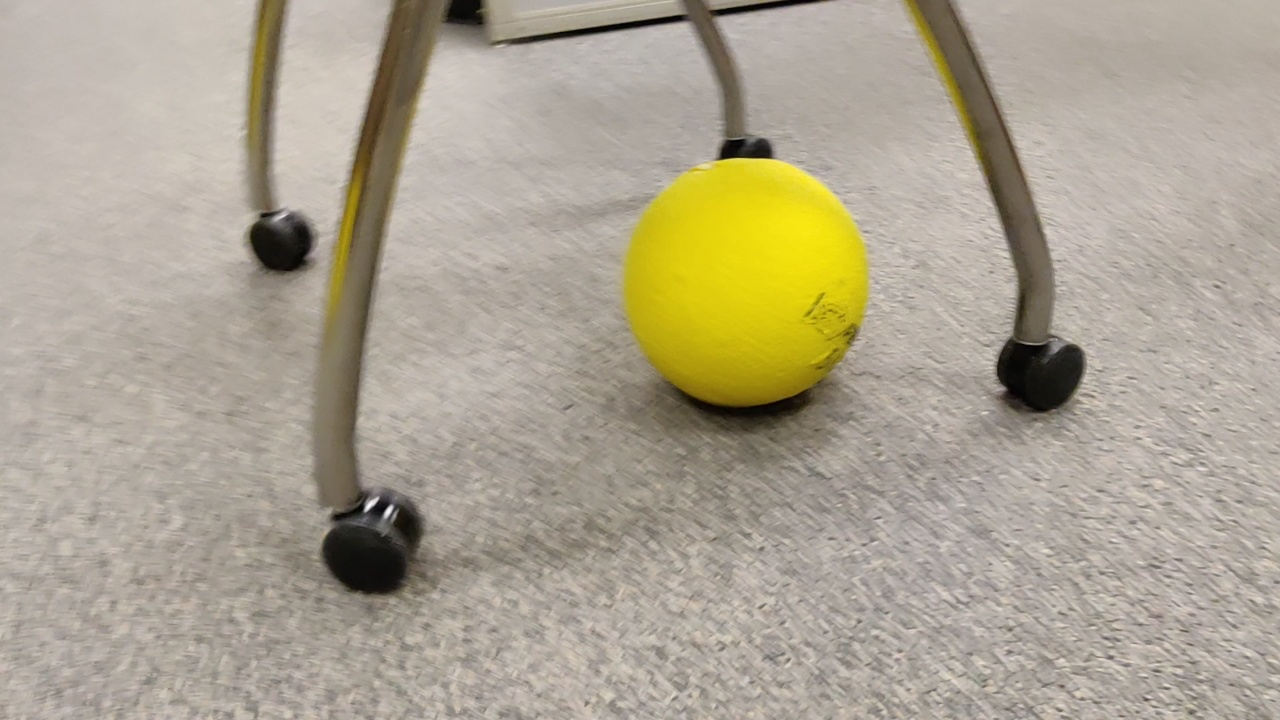Ball: (620, 159, 866, 408)
